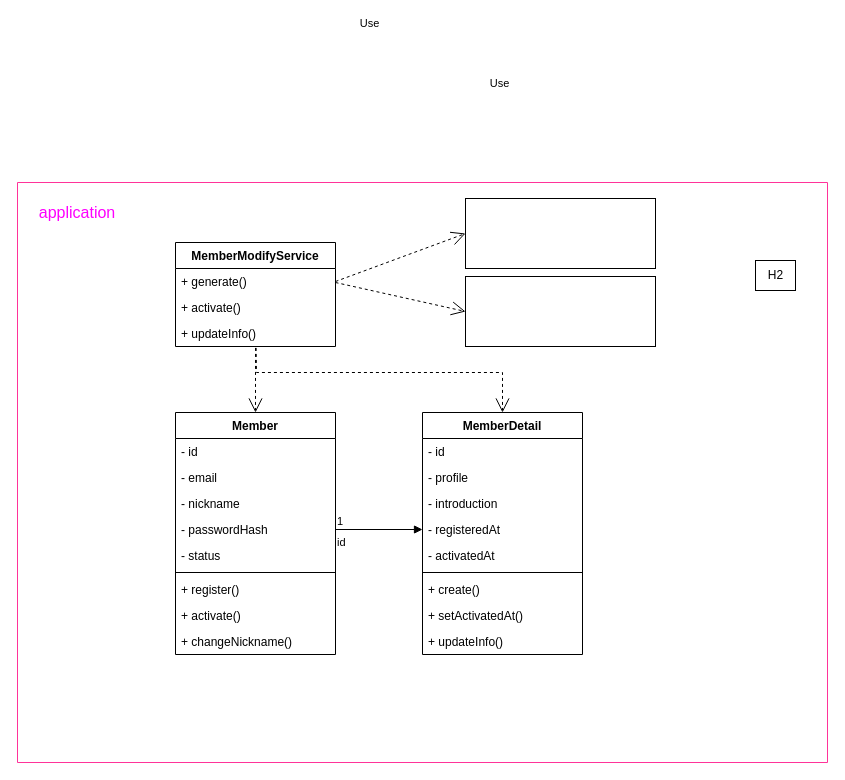
Some shapes in this 845 by 780 pixel diagram are drawn without their labels. Here are the shapes that lost their labels. From the top down, the centre of each, then its label:
[560,233]: <<Interface>> MemberRepository + save(Member)
[560,311]: <<Interface>> MemberDetailRepository + save(MemberDetail)
